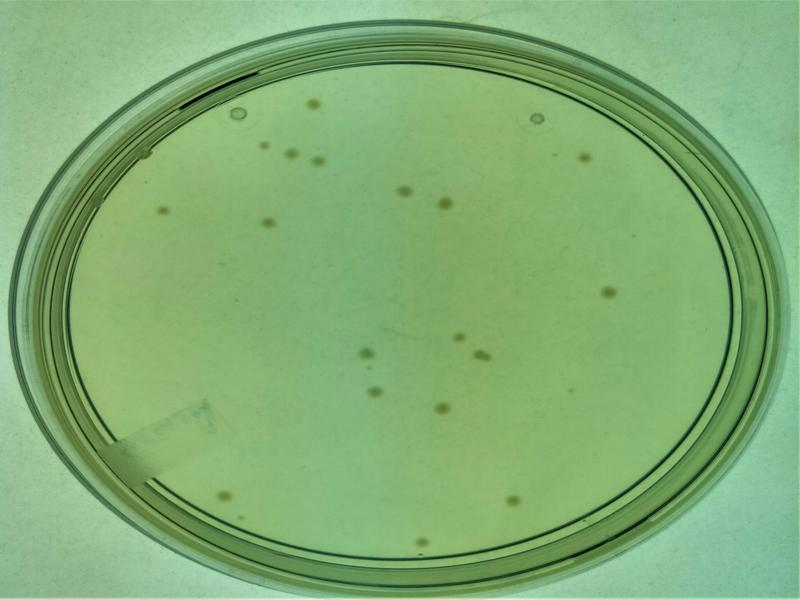colony: (394, 183, 414, 197), (413, 534, 432, 547), (601, 284, 616, 299), (577, 150, 591, 164), (367, 386, 382, 399), (154, 205, 170, 217), (261, 216, 278, 227), (503, 495, 520, 506), (215, 490, 232, 501), (311, 154, 325, 167), (435, 403, 449, 416), (308, 97, 322, 109), (285, 147, 297, 160), (439, 195, 452, 207), (359, 347, 373, 358), (453, 332, 466, 343), (259, 139, 270, 150)
